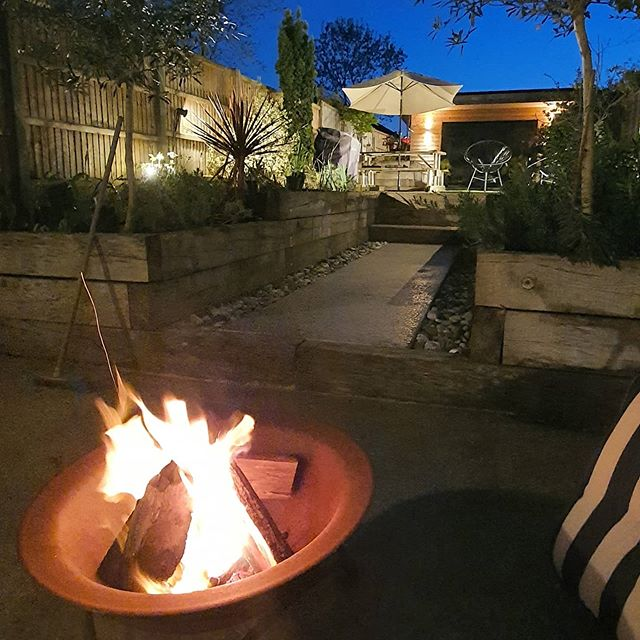chair: (463, 134, 519, 192)
fireplace: (18, 369, 372, 624)
tree: (17, 1, 227, 235), (505, 1, 627, 234), (257, 16, 347, 183), (314, 19, 410, 118)
